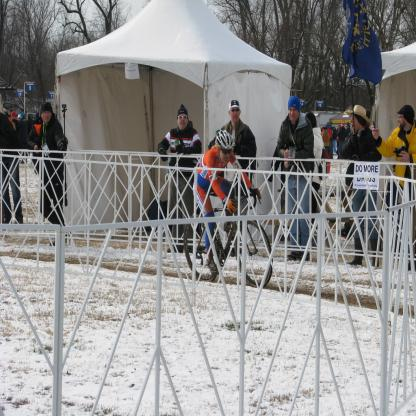Helmet: (214, 126, 234, 164)
